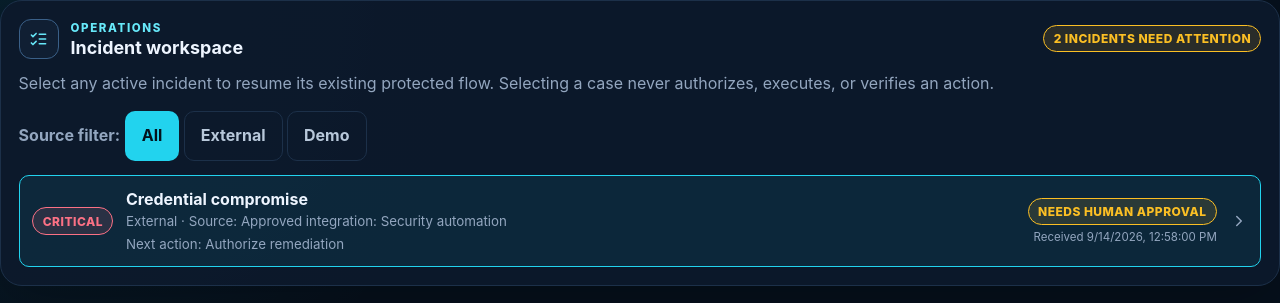
it: IncidentWorkspaceQueue › shows a filtered empty state without reporting a load failure
The image size is (1280, 303).
Click the button "Demo" at (327, 136), box left=287, top=111, right=366, bottom=161
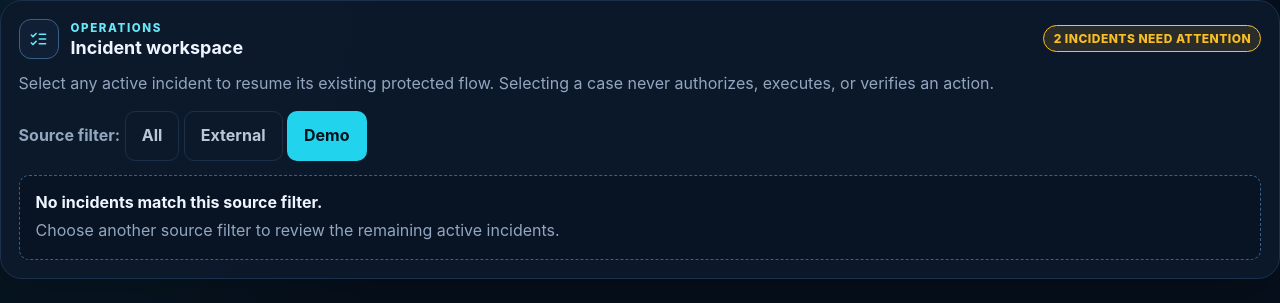
Expected: the text "No incidents match this source filter." is shown, left=36, top=192, right=322, bottom=212
